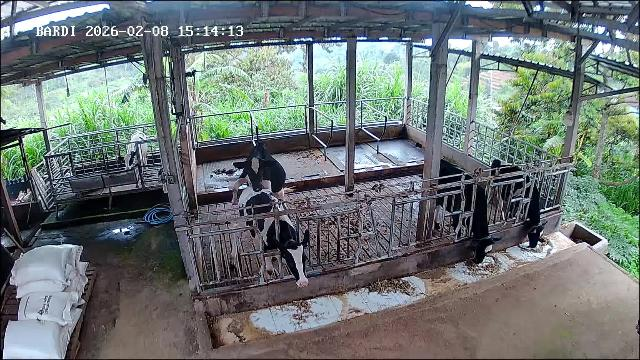mounting: (231, 145, 288, 228)
